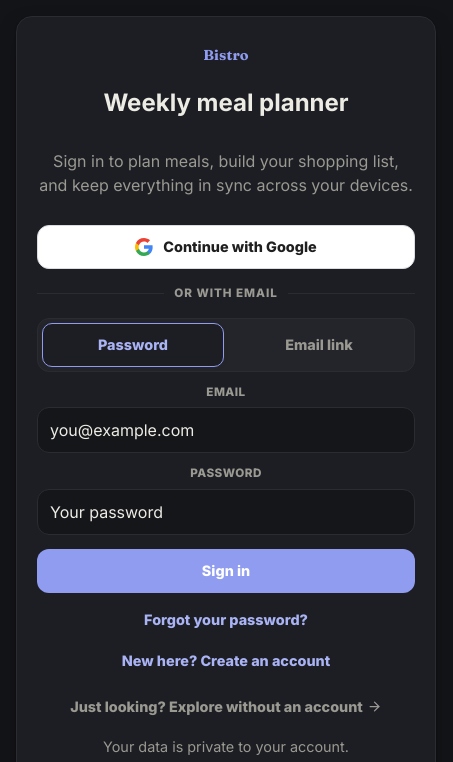
SignInScreen › sends a password reset link from the forgot-password form
The image size is (453, 762).
Click the button "Forgot your password?" at (226, 620), box [140,605,312,634]
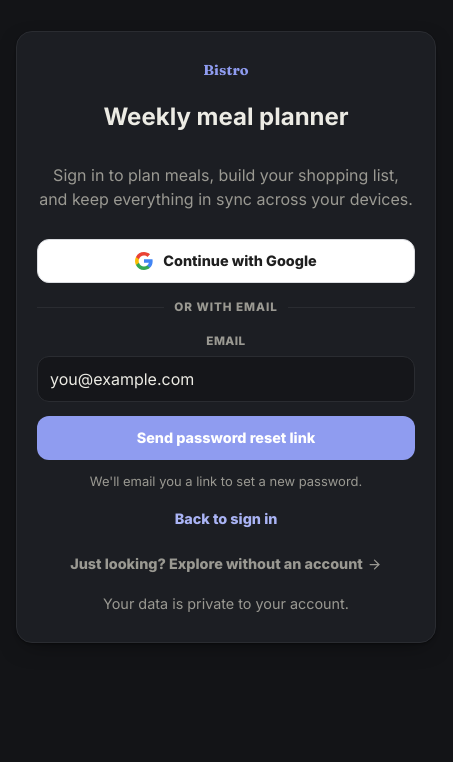
Type "her@example.com" into the field with placeholder "you@example.com" at (226, 379), box [37,356,415,402]
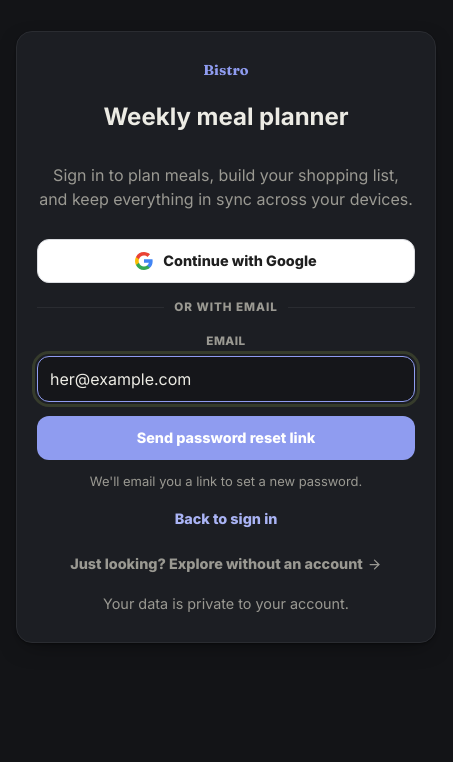
Click the button "Send password reset link" at (226, 438), box [37,416,415,460]
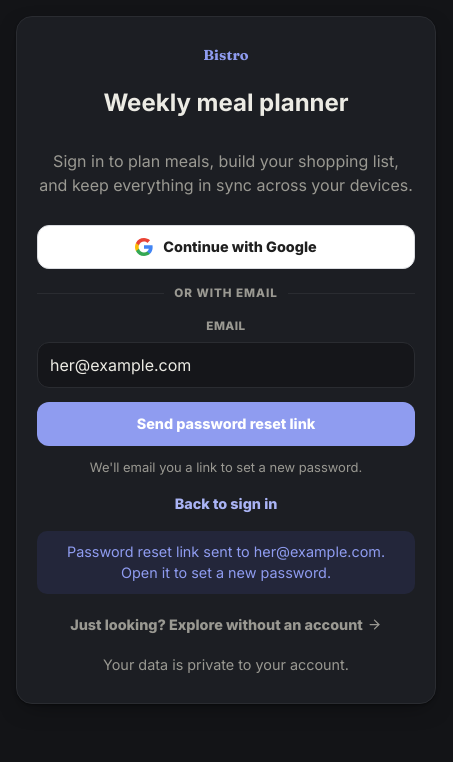
Expected: the text "Password reset link sent to her@example.com. Open it to set a new password." is shown, [37,531,415,594]
